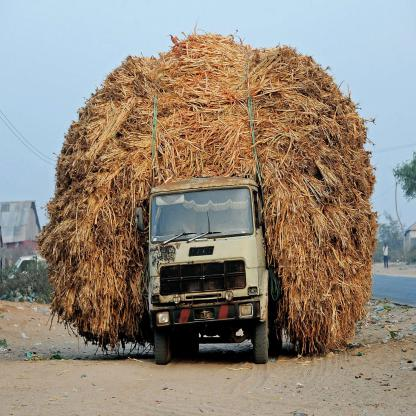overloaded-truck: (26, 33, 380, 359)
